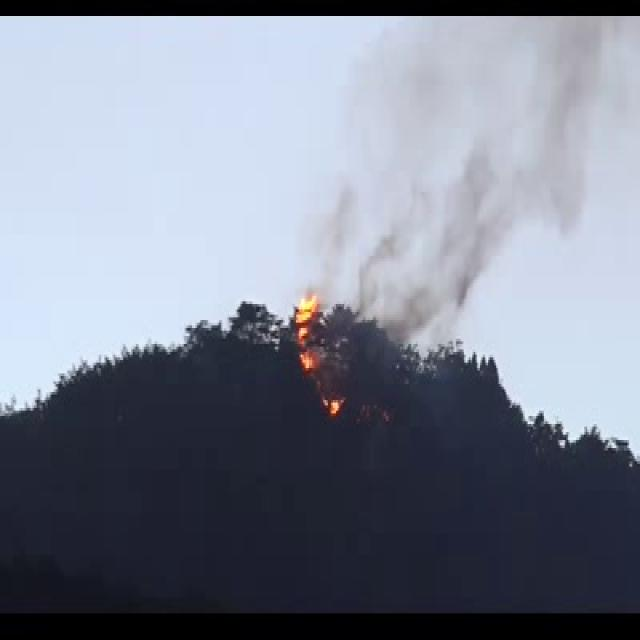smoke: (354, 22, 598, 308)
